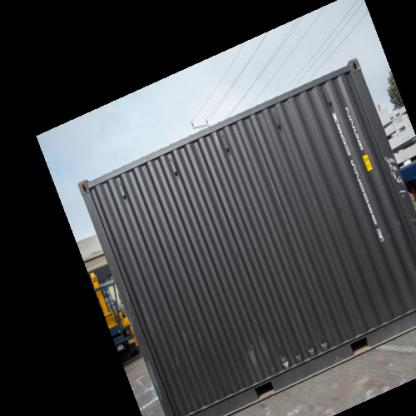Damage: (272, 338, 332, 366), (384, 155, 410, 215)
